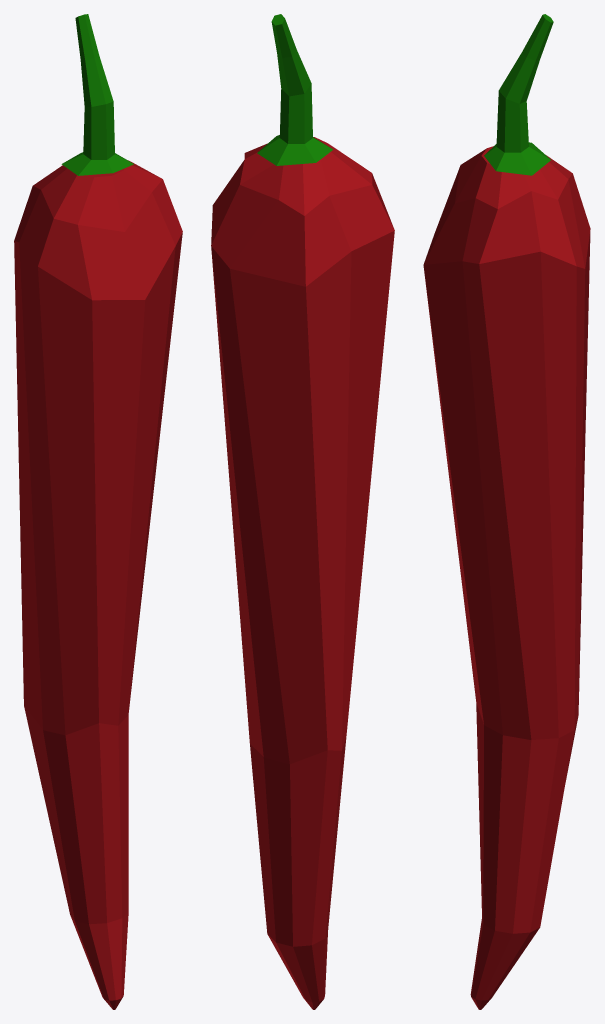
Rendered from ChilliPepper.fbx.
The picture shows the model from 3 angles, left to right: view 1: azimuth 30°, elevation 25°; view 2: azimuth 150°, elevation 25°; view 3: azimuth 270°, elevation 25°; orthographic projection. The views are drawn at different scales.
Visible parts, largest first — view 1: ChilliPepper; view 2: ChilliPepper; view 3: ChilliPepper.
Boxes of the visible parts, x1,y1,x2,y2 form: ChilliPepper: [14, 14, 182, 1009]; ChilliPepper: [211, 14, 394, 1009]; ChilliPepper: [423, 14, 590, 1009].
Size of the model in its own units: 3.08 by 19.73 by 3.
